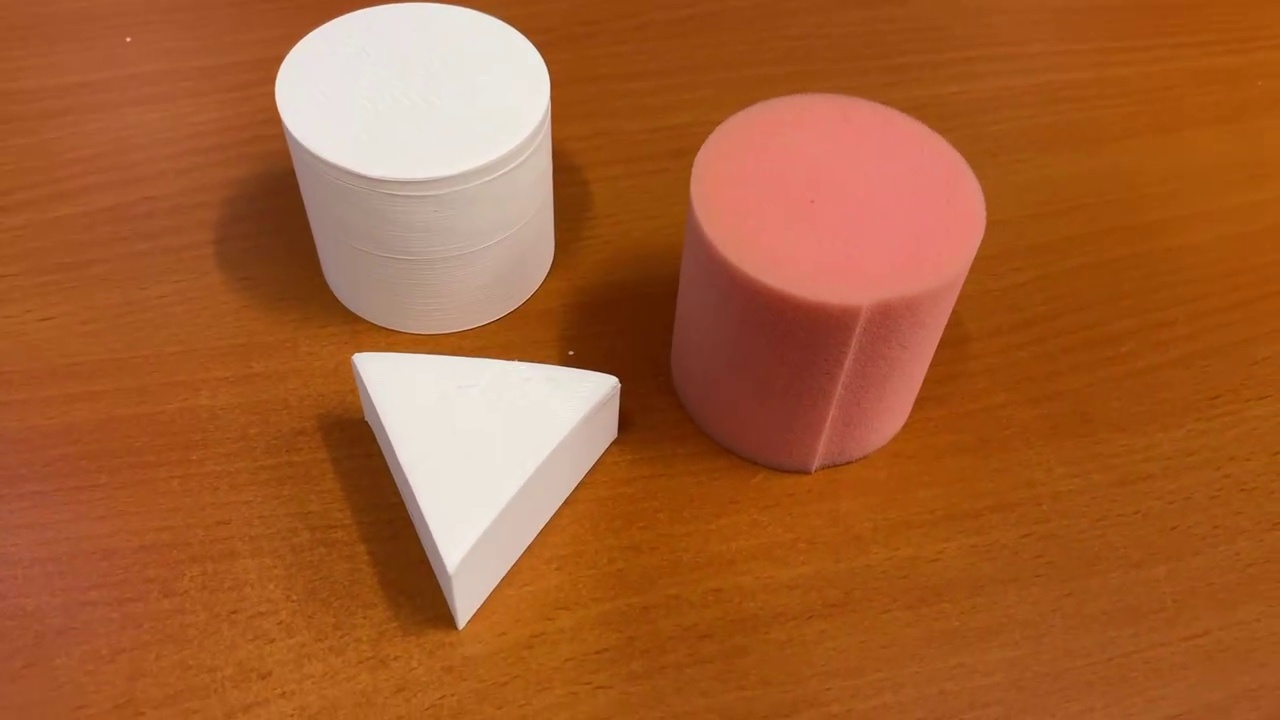Cylinder: (659, 86, 992, 483), (267, 1, 563, 335)
Triangle_short: (345, 342, 638, 638)
